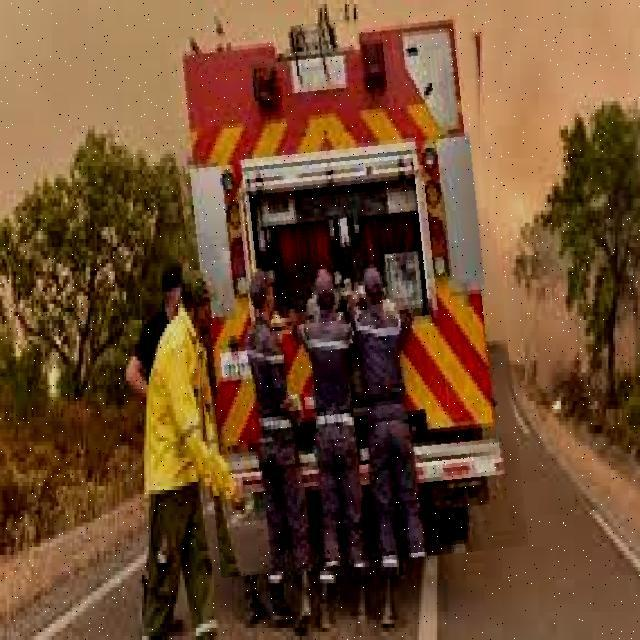pompier: (178, 14, 514, 571)
